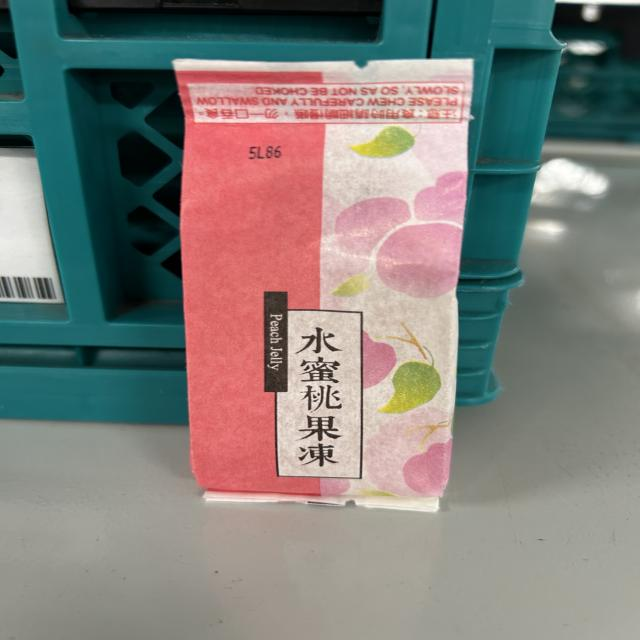object_name: (178, 62, 455, 510)
